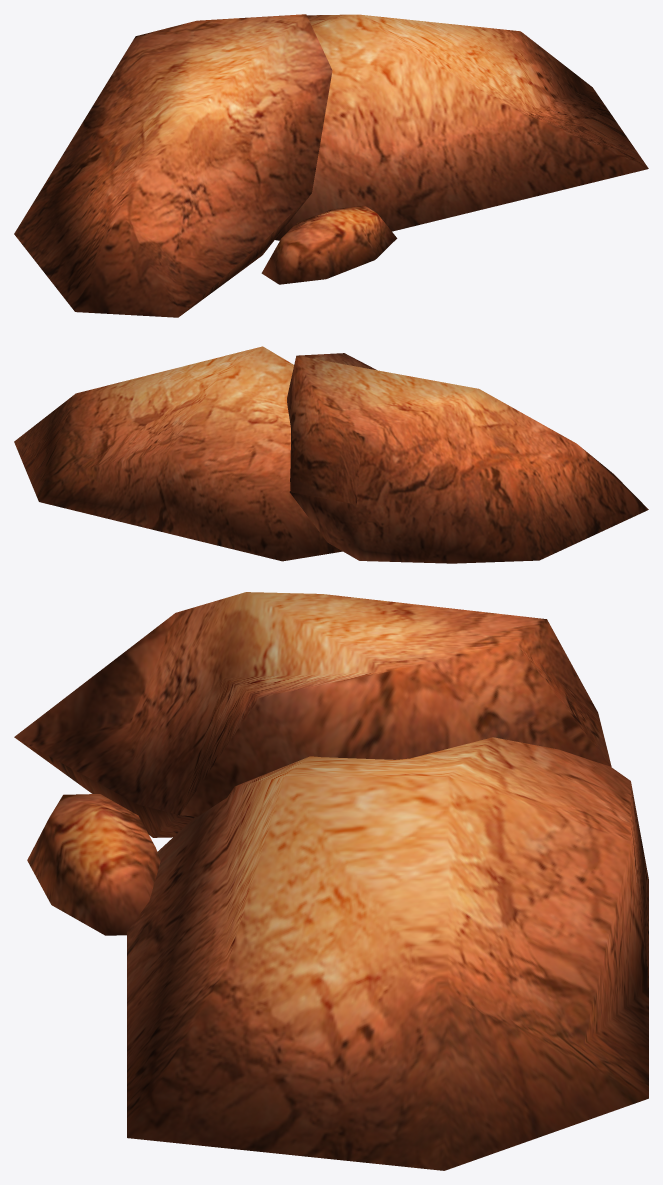
File: Rubbles.FBX
3 renders of one model, top to bottom at view 1: azimuth 30°, elevation 25°; view 2: azimuth 150°, elevation 25°; view 3: azimuth 270°, elevation 25°, orthographic. The views are drawn at different scales.
Visible parts, largest first — view 1: Rocks; view 2: Rocks; view 3: Rocks.
Boxes of the visible parts, x1,y1,x2,y2 form: Rocks: [14, 14, 648, 317]; Rocks: [14, 346, 648, 563]; Rocks: [14, 592, 648, 1170].
Bounding box in the file's own units: 1.96 × 1.07 × 0.4863.
